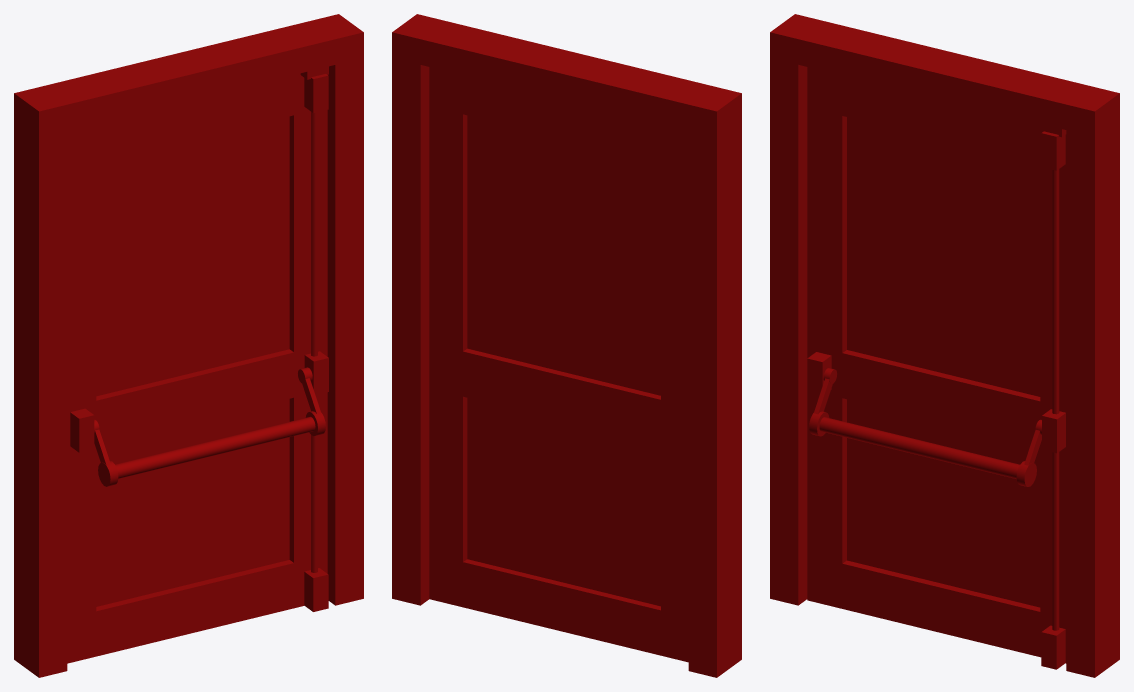
Rendered from Porte3.FBX.
3 views of the same model, side by side, from view 1: azimuth 30°, elevation 25°; view 2: azimuth 150°, elevation 25°; view 3: azimuth 330°, elevation 25° (orthographic).
Parts seen in each view (by area): view 1: porte_A; view 2: porte_A; view 3: porte_A.
Boxes of the visible parts, bbox=[...] form: porte_A: bbox=[14, 14, 363, 677]; porte_A: bbox=[392, 14, 741, 677]; porte_A: bbox=[770, 14, 1119, 677].
Bounding box in the file's own units: 1.47 × 0.3242 × 2.46.
